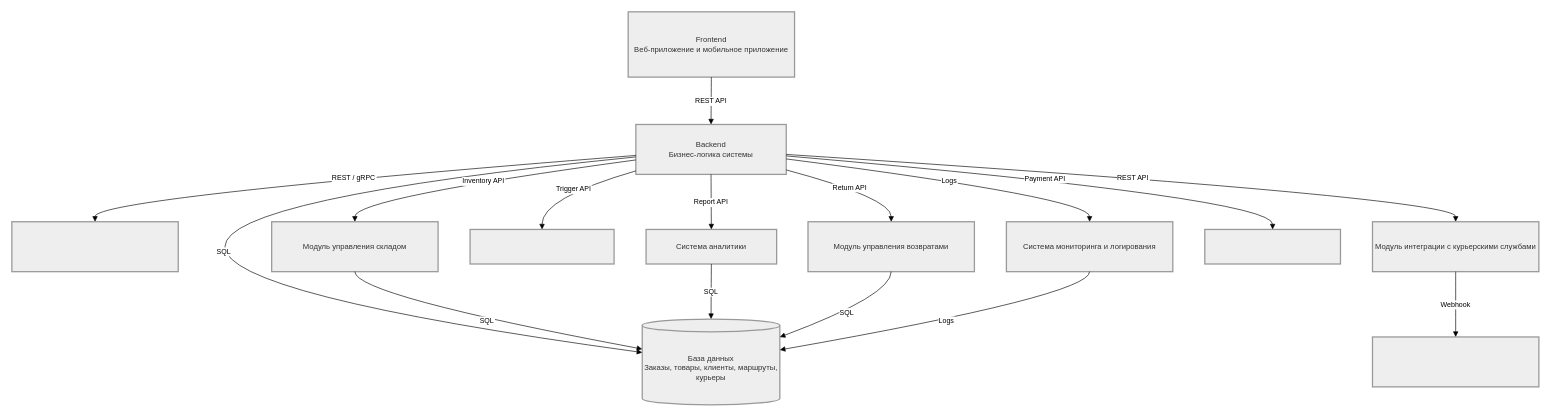
Some shapes in this 1550 by 416 pixel diagram are drawn without their labels. The shapes that lost their labels are listed below. From the top down, each one's box as (x1, y1, x2, y2) in pixels, then its label:
(11, 221, 179, 272): Модуль оптимизации маршрутов
(469, 228, 614, 264): Система уведомлений
(1204, 228, 1341, 264): Платежные системы
(1372, 336, 1539, 387): Внешние API курьерских служб
